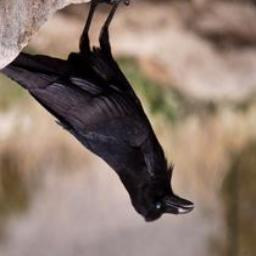Crow: (0, 0, 196, 230)
